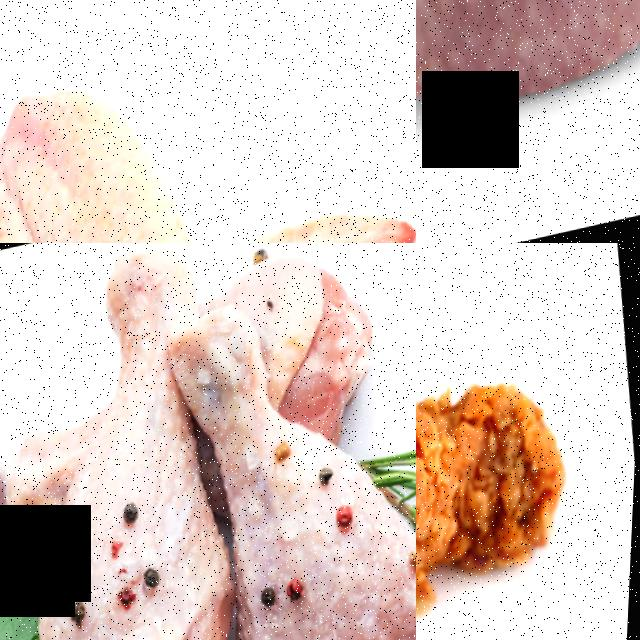chicken thigh: (0, 243, 248, 640), (157, 271, 416, 640), (416, 289, 603, 640), (416, 0, 640, 243)
chicken wing: (0, 6, 416, 243)
